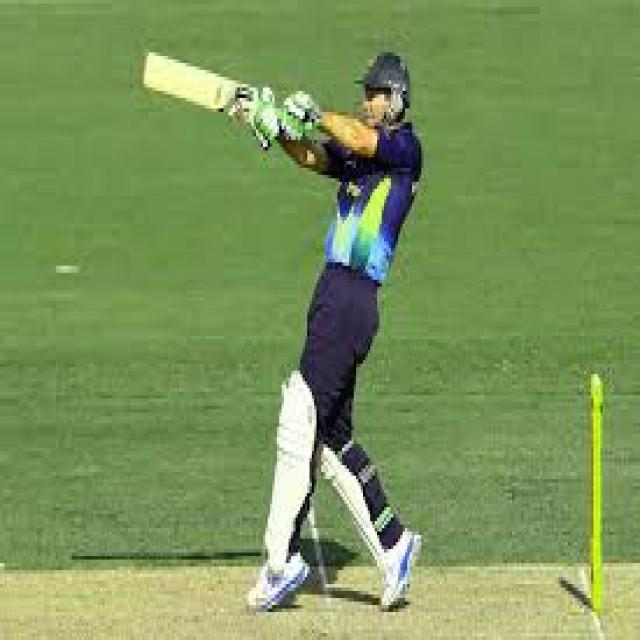toe: (139, 53, 153, 91)
